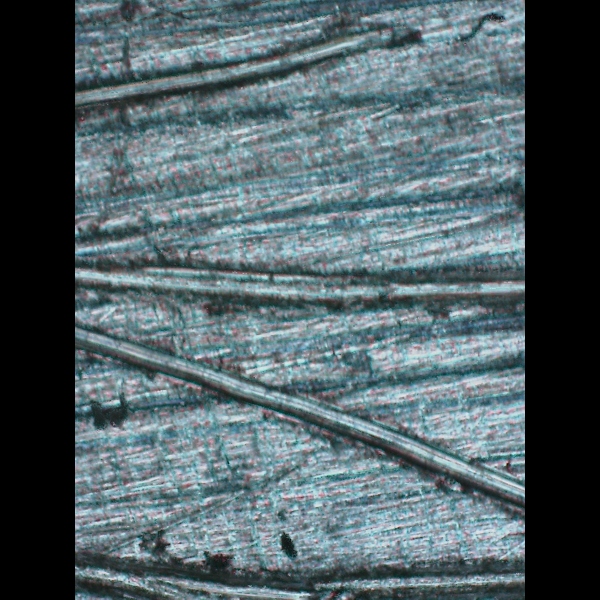d: (77, 319, 524, 509), (76, 21, 420, 124), (77, 250, 524, 309), (75, 548, 524, 599)
